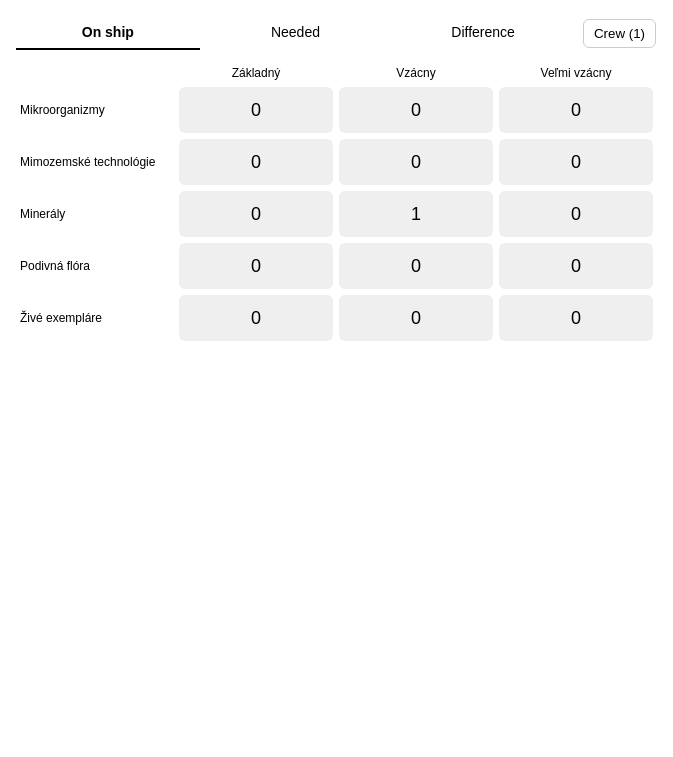
ShipPage › puts every dialog's content on a card, so it never floats over the page
What coordinates should you click on to do the following:
click the button with test id "cell-minerals-rare"
I would click on:
 (416, 214)
Its box is [339,191,493,237].
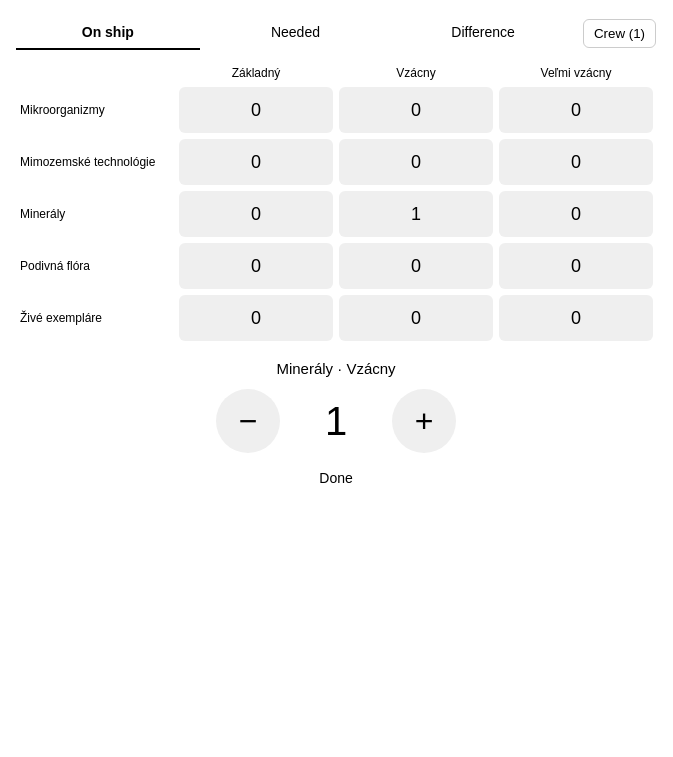
Now the element with test id "stock-stepper" is shown, box [216,360,456,487]
What coordinates should you click on to do the following:
click the tab with test id "tab-needed"
I would click on:
 (295, 33)
Its box is [204,16,387,50].
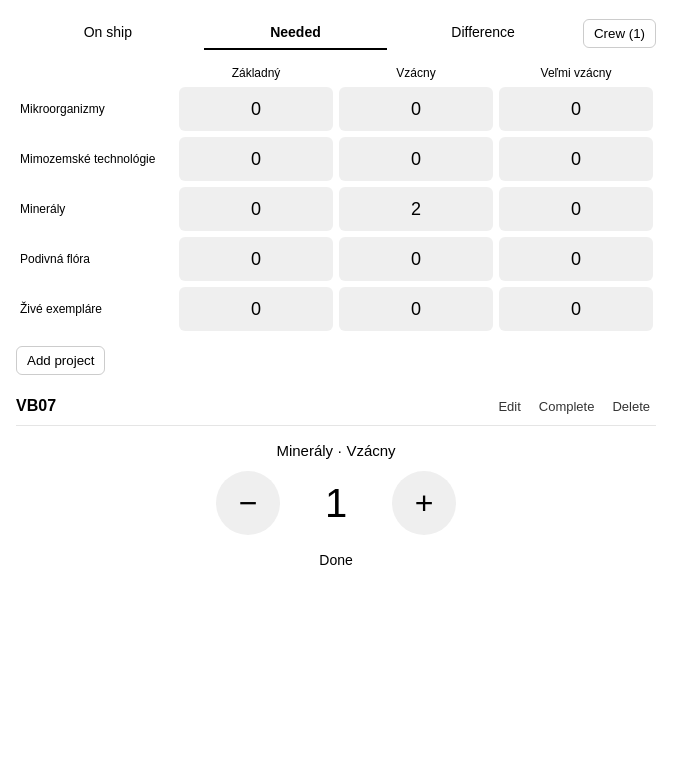
What coordinates should you click on to do the following:
click the button with test id "project-complete-p-1"
I would click on:
 (567, 406)
Its box is [533,398,600,414].
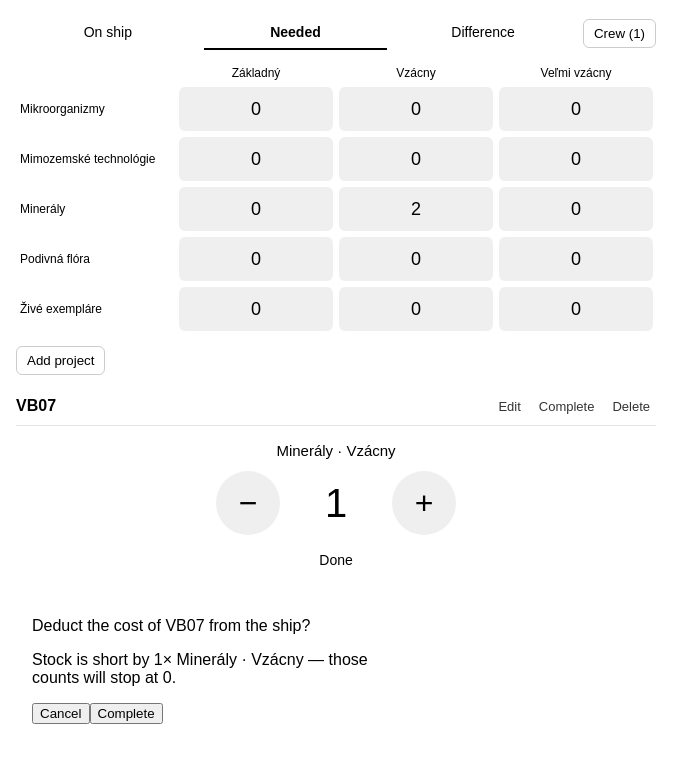
Now the element with test id "confirm-complete" is shown, box [16,585,408,740]
